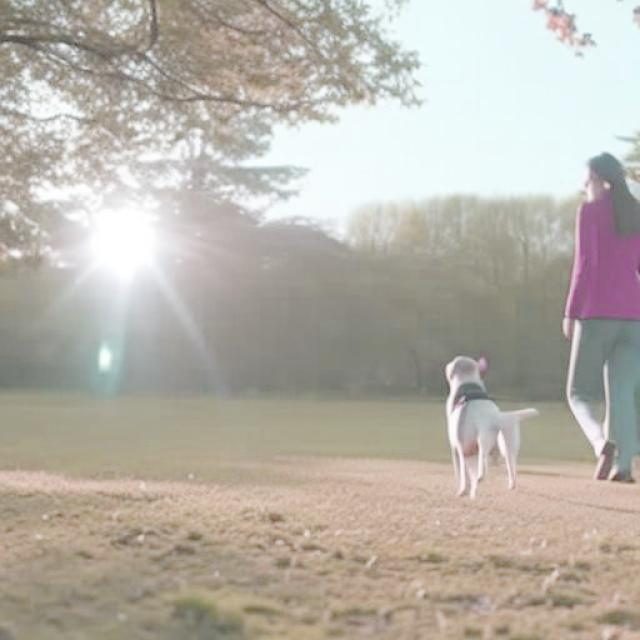Unleashed_Dog: (445, 317, 640, 499)
